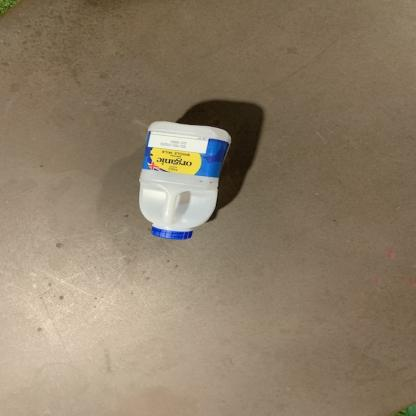trash: (138, 121, 232, 243)
